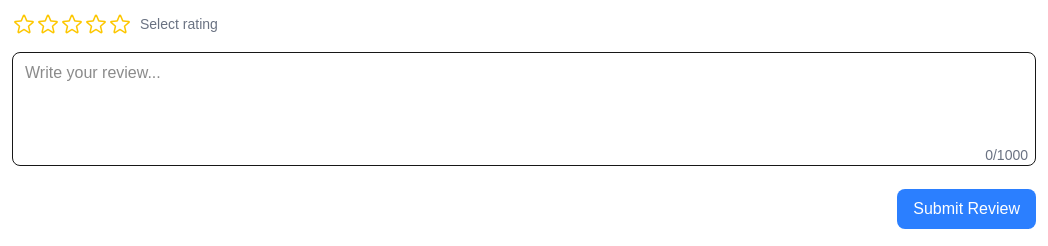
Scenario: Review › shows character count
Type "Test review" into the text box at [524, 109], box [12,52,1036,166]
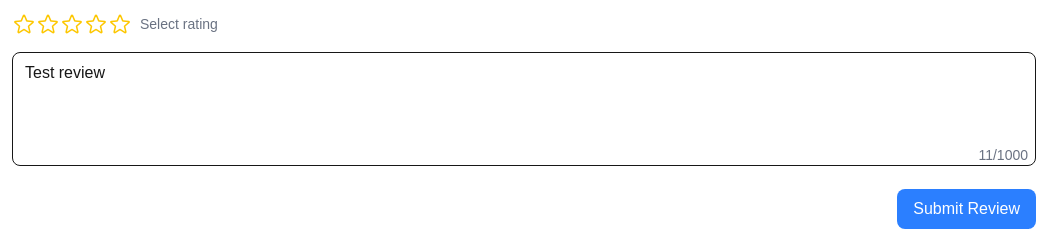
Expected: the text "11/1000" is shown, [978,145,1028,165]
